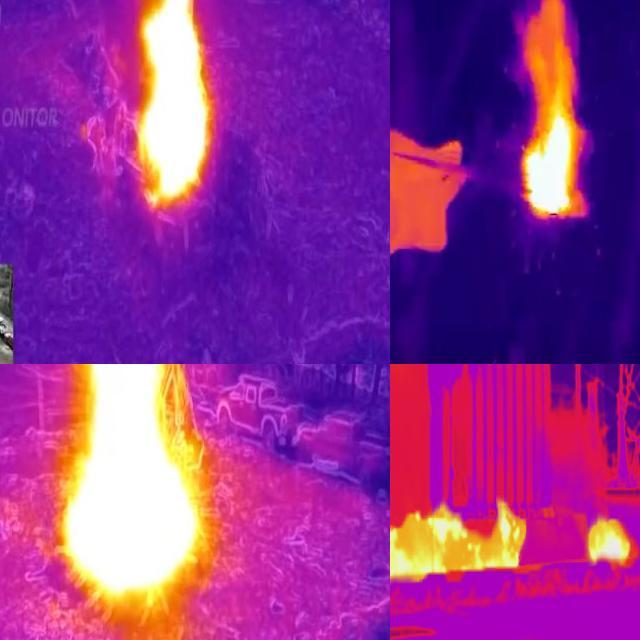fire: (60, 365, 201, 603), (108, 1, 217, 213), (391, 481, 536, 582), (521, 21, 591, 223), (579, 488, 640, 585)
